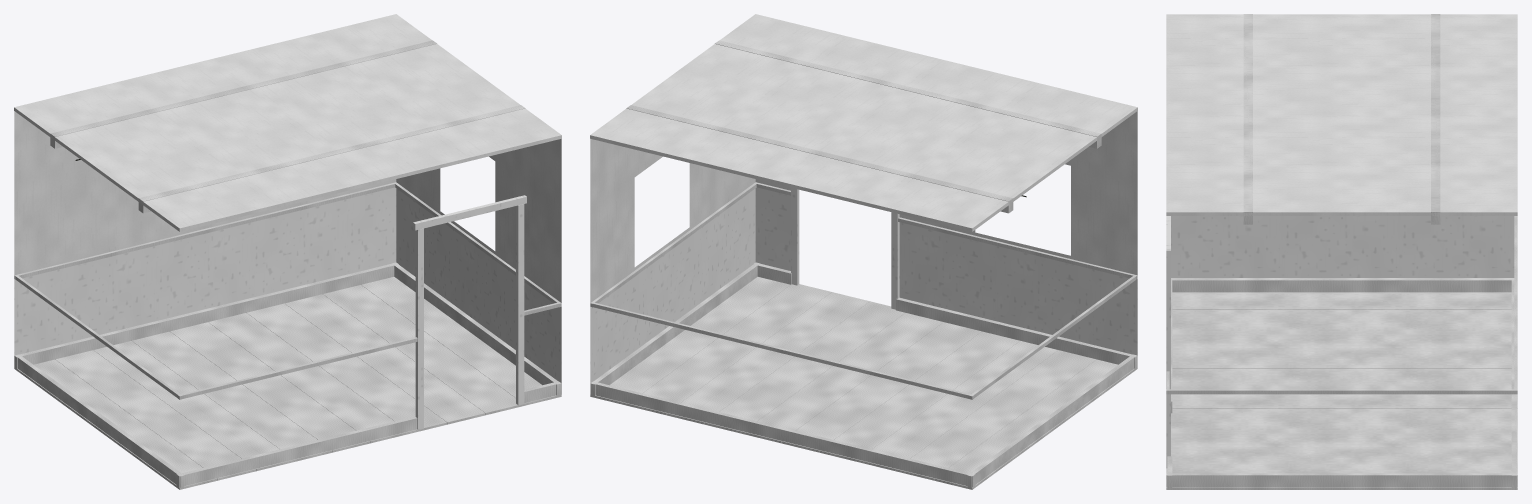
Rendered from SM_FieldStation_Hut_Interior_LOD2.glb.
3 views of the same model, side by side, from view 1: azimuth 30°, elevation 25°; view 2: azimuth 150°, elevation 25°; view 3: azimuth 270°, elevation 25° (orthographic). The views are drawn at different scales.
Visible parts, largest first — view 1: SM_FieldStation_Hut_Interior_LOD2; view 2: SM_FieldStation_Hut_Interior_LOD2; view 3: SM_FieldStation_Hut_Interior_LOD2.
Boxes of the visible parts, x1,y1,x2,y2 form: SM_FieldStation_Hut_Interior_LOD2: (14, 14, 561, 489); SM_FieldStation_Hut_Interior_LOD2: (590, 14, 1137, 489); SM_FieldStation_Hut_Interior_LOD2: (1166, 14, 1517, 489).
Size of the model in its own units: 4 by 2.62 by 3.
Materials: 8 (7 with a texture image).
